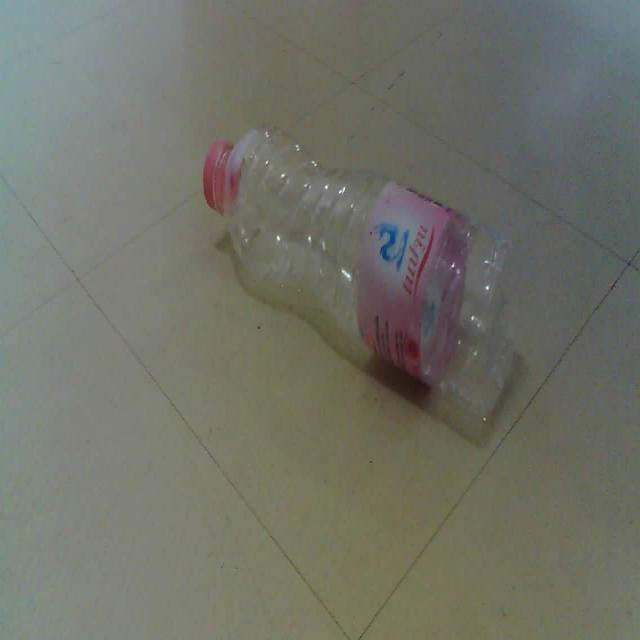empty: (203, 128, 519, 435)
